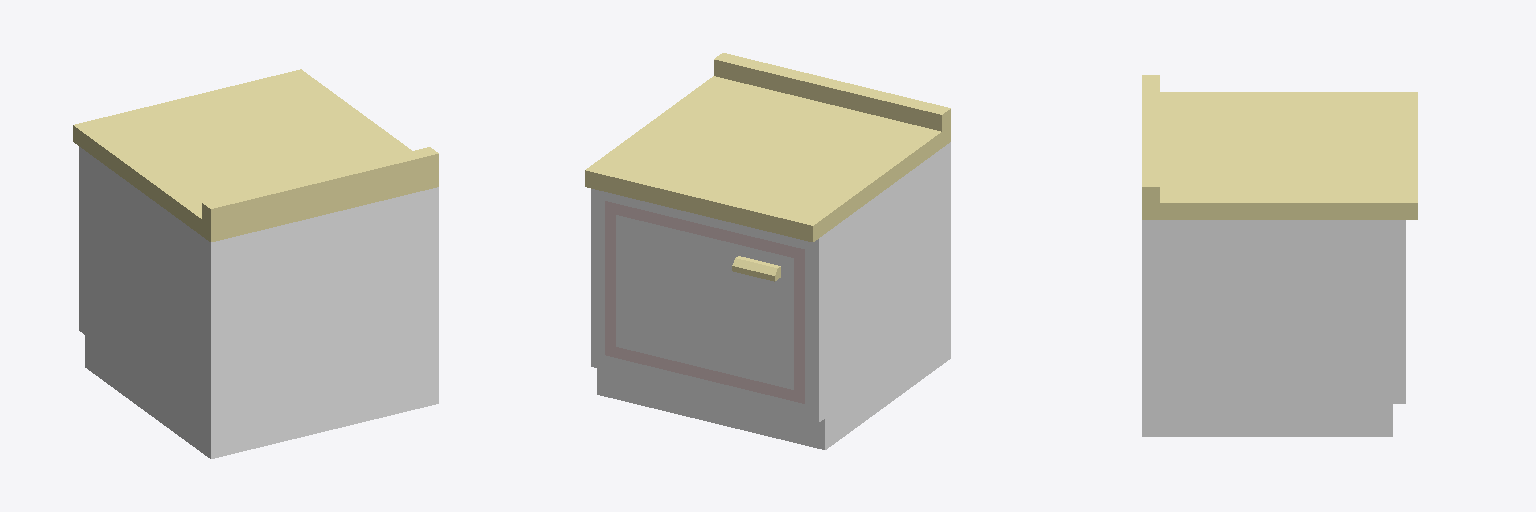
File: cabinet.obj
3 views of the same model, side by side, from view 1: azimuth 30°, elevation 25°; view 2: azimuth 150°, elevation 25°; view 3: azimuth 270°, elevation 25° (orthographic).
Visible parts, largest first — view 1: kitchenCabinet; view 2: kitchenCabinet; view 3: kitchenCabinet.
Boxes of the visible parts, x1,y1,x2,y2 form: kitchenCabinet: [73, 69, 438, 458]; kitchenCabinet: [585, 53, 950, 449]; kitchenCabinet: [1142, 75, 1417, 436].
Size of the model in its own units: 0.43 by 0.45 by 0.45.